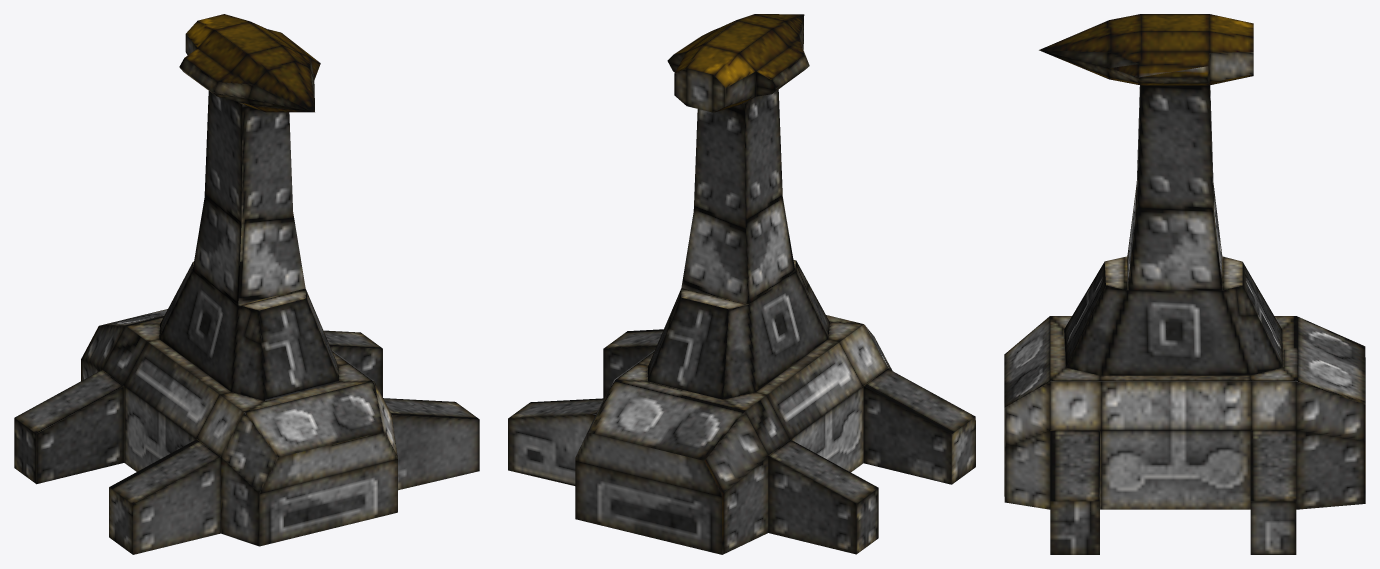
Rendered from windgen.obj.
3 views of the same model, side by side, from view 1: azimuth 30°, elevation 25°; view 2: azimuth 150°, elevation 25°; view 3: azimuth 270°, elevation 25° (orthographic). The views are drawn at different scales.
Visible parts, largest first — view 1: Windgen; view 2: Windgen; view 3: Windgen.
Boxes of the visible parts, x1=… form: Windgen: x1=14, y1=14, x2=479, y2=554; Windgen: x1=508, y1=14, x2=975, y2=554; Windgen: x1=1004, y1=14, x2=1365, y2=554.
Size of the model in its own units: 11.19 by 13.28 by 9.76.
Materials: 1 (1 with a texture image).
